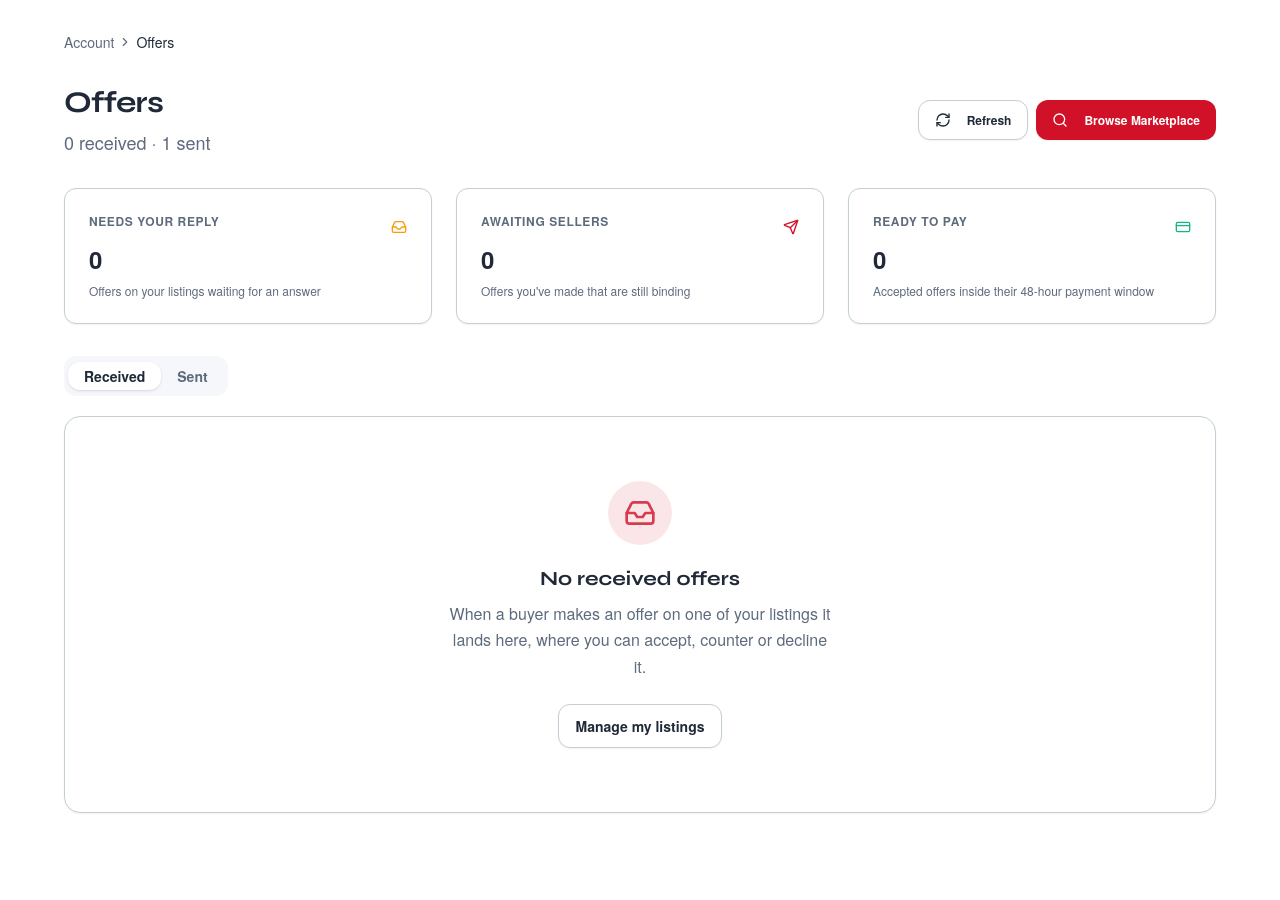
it: AccountOffers — payment deadline › shows an accepted offer past its payment window as Expired with no Pay button
Click the tab "Sent" at [192, 376], box [161, 362, 224, 390]
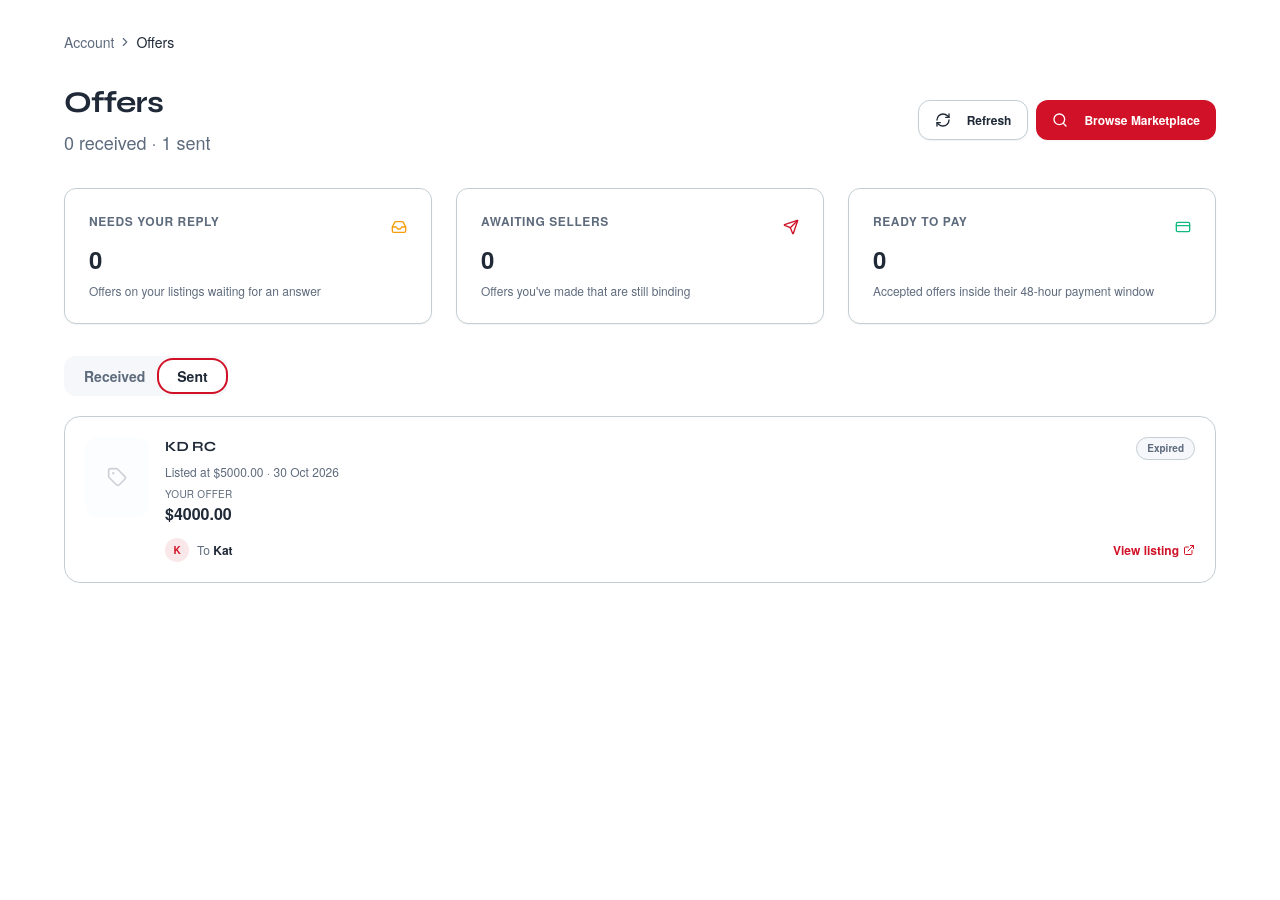
Result: the text "Expired" is shown at [1136, 437, 1195, 460]
